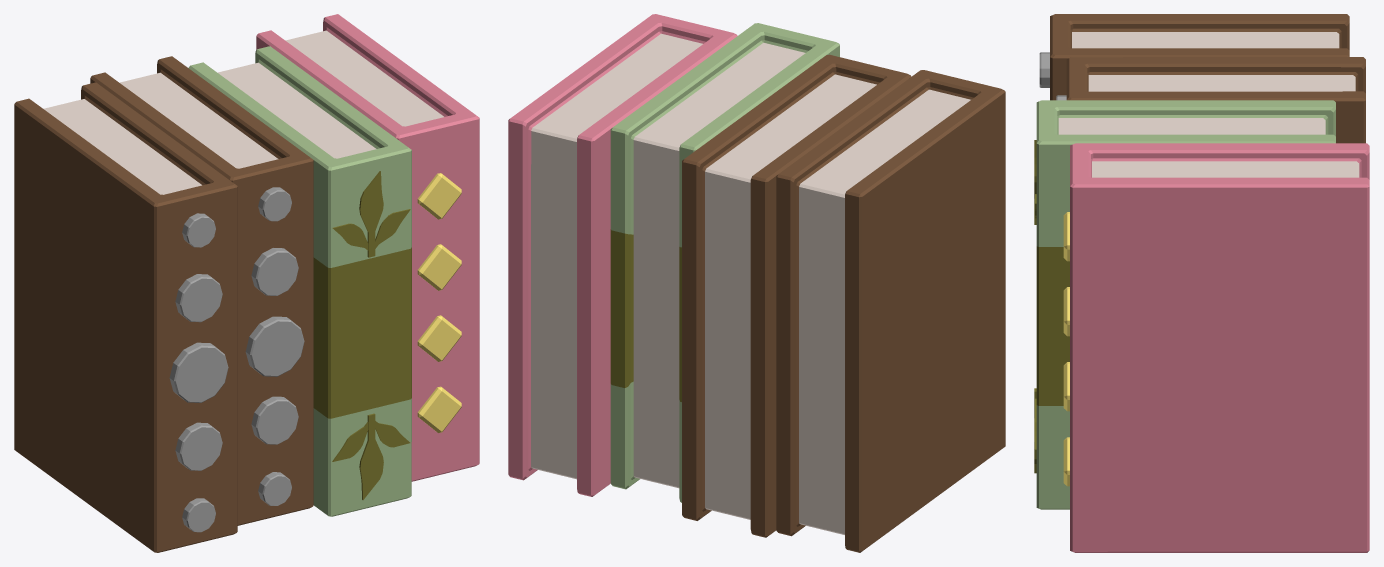
File: Books_13.glb
The picture shows the model from 3 angles, left to right: view 1: azimuth 30°, elevation 25°; view 2: azimuth 150°, elevation 25°; view 3: azimuth 270°, elevation 25°; orthographic projection. The views are drawn at different scales.
Parts seen in each view (by area): view 1: Books_13; view 2: Books_13; view 3: Books_13.
Boxes of the visible parts, <box> form: Books_13: <box>14,14,479,552</box>; Books_13: <box>508,14,1005,552</box>; Books_13: <box>1034,14,1369,552</box>.
Size of the model in its own units: 0.3943 by 0.3928 by 0.3238.
Materials: 1 (1 with a texture image).
